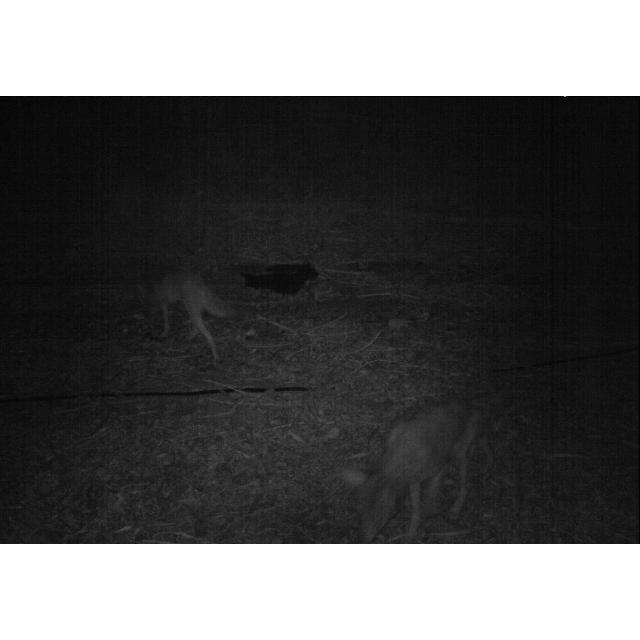animals: (350, 394, 478, 538), (144, 258, 238, 364)
